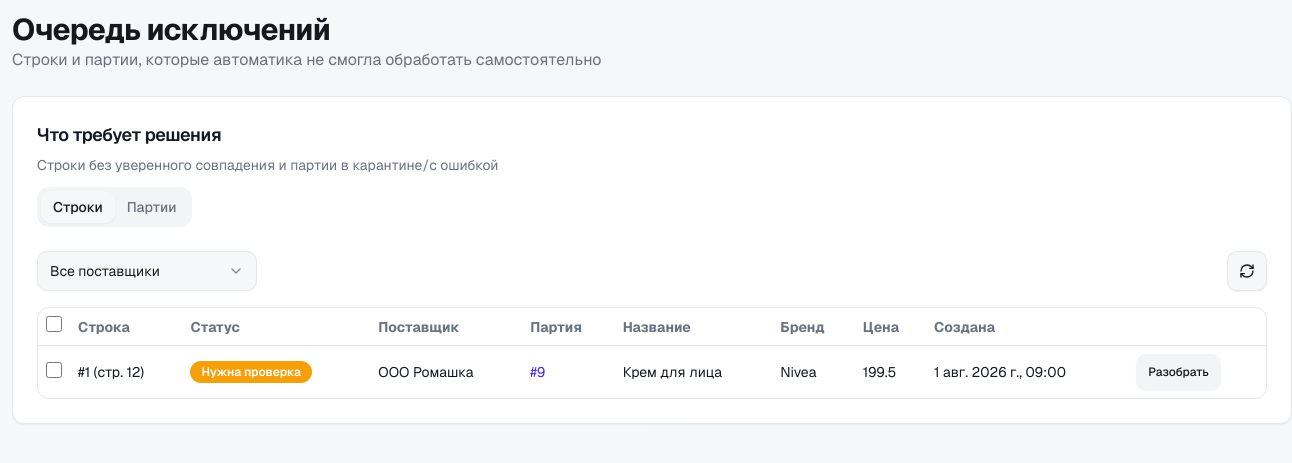
ExceptionsQueuePage › shows batch exceptions with a resume button for quarantined batches
Click the tab "Партии" at {"x": 152, "y": 207}, box [115,191,188,223]
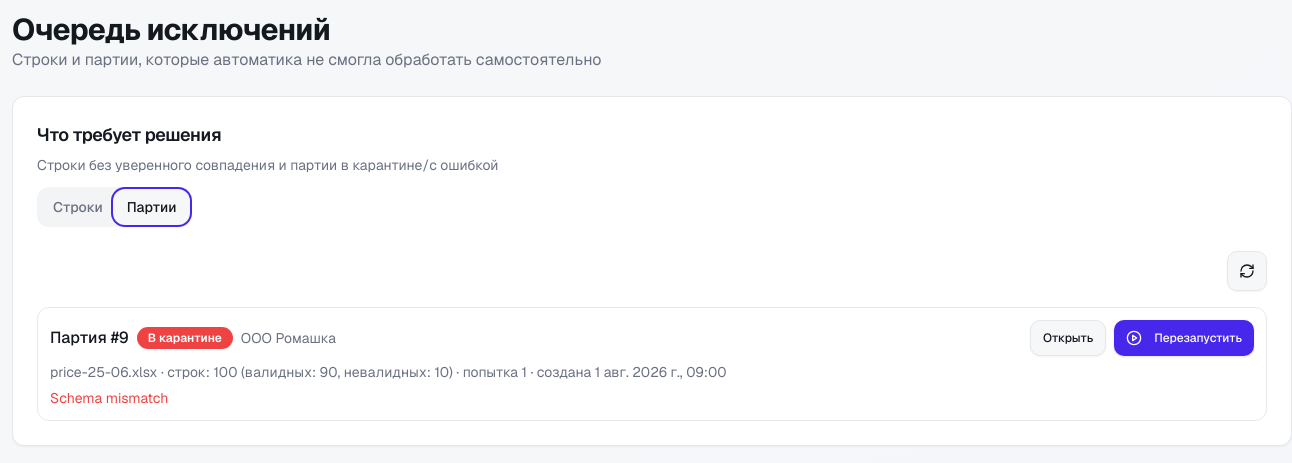
Result: the text "price-25-06.xlsx" is shown at [50,363,158,381]
Result: the text "Schema mismatch" is shown at [50,389,168,407]
Result: the button "Перезапустить" is shown at [1114,320,1254,356]
